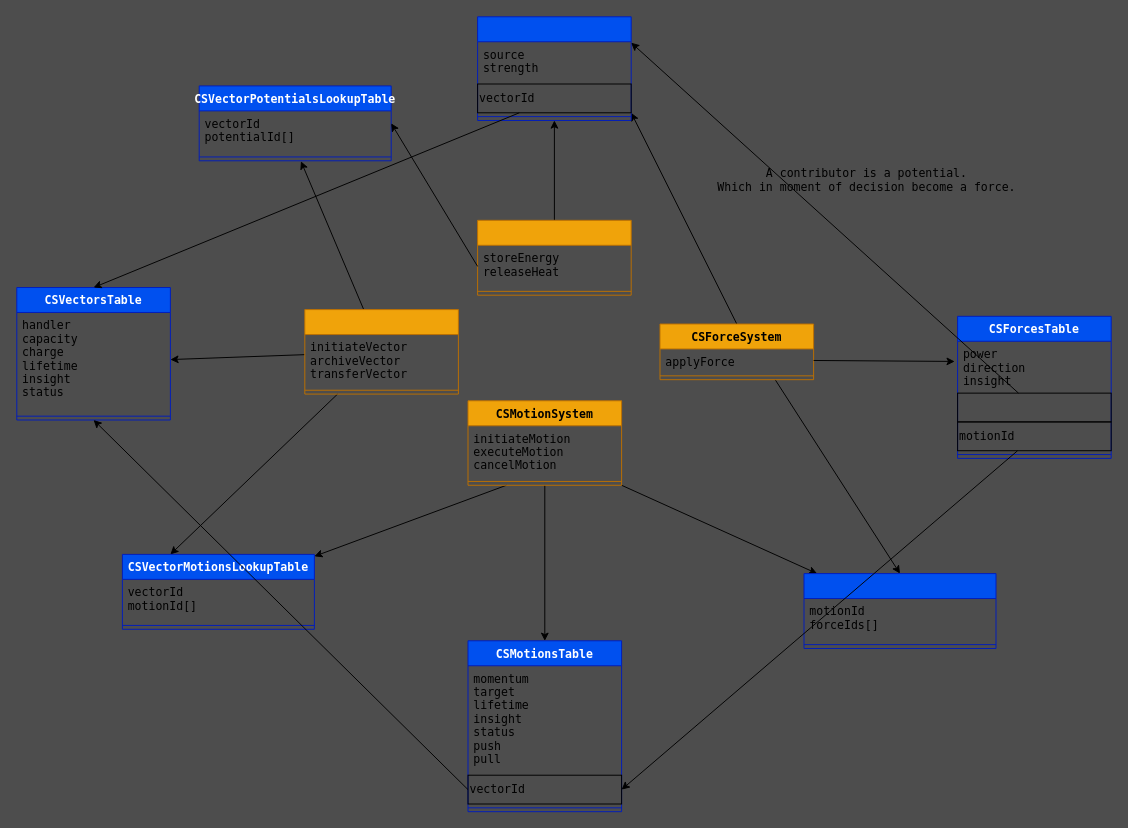
The diagram is 1128 pixels wide and 828 high, and some of its shapes have lost their labels. Each missing label, with the box of its shape:
CSMotionForcesLookupTable: (803, 573, 996, 648)
CSPotentialsTable: (477, 16, 631, 120)
CSPotentialSystem: (477, 219, 631, 295)
CSVectorSystem: (304, 309, 458, 394)
potentialId: (957, 392, 1111, 422)
